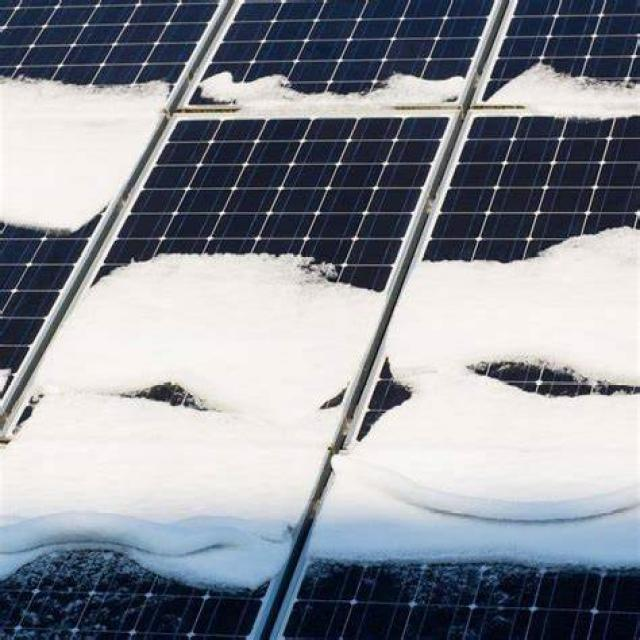snow covered: (10, 76, 628, 571)
